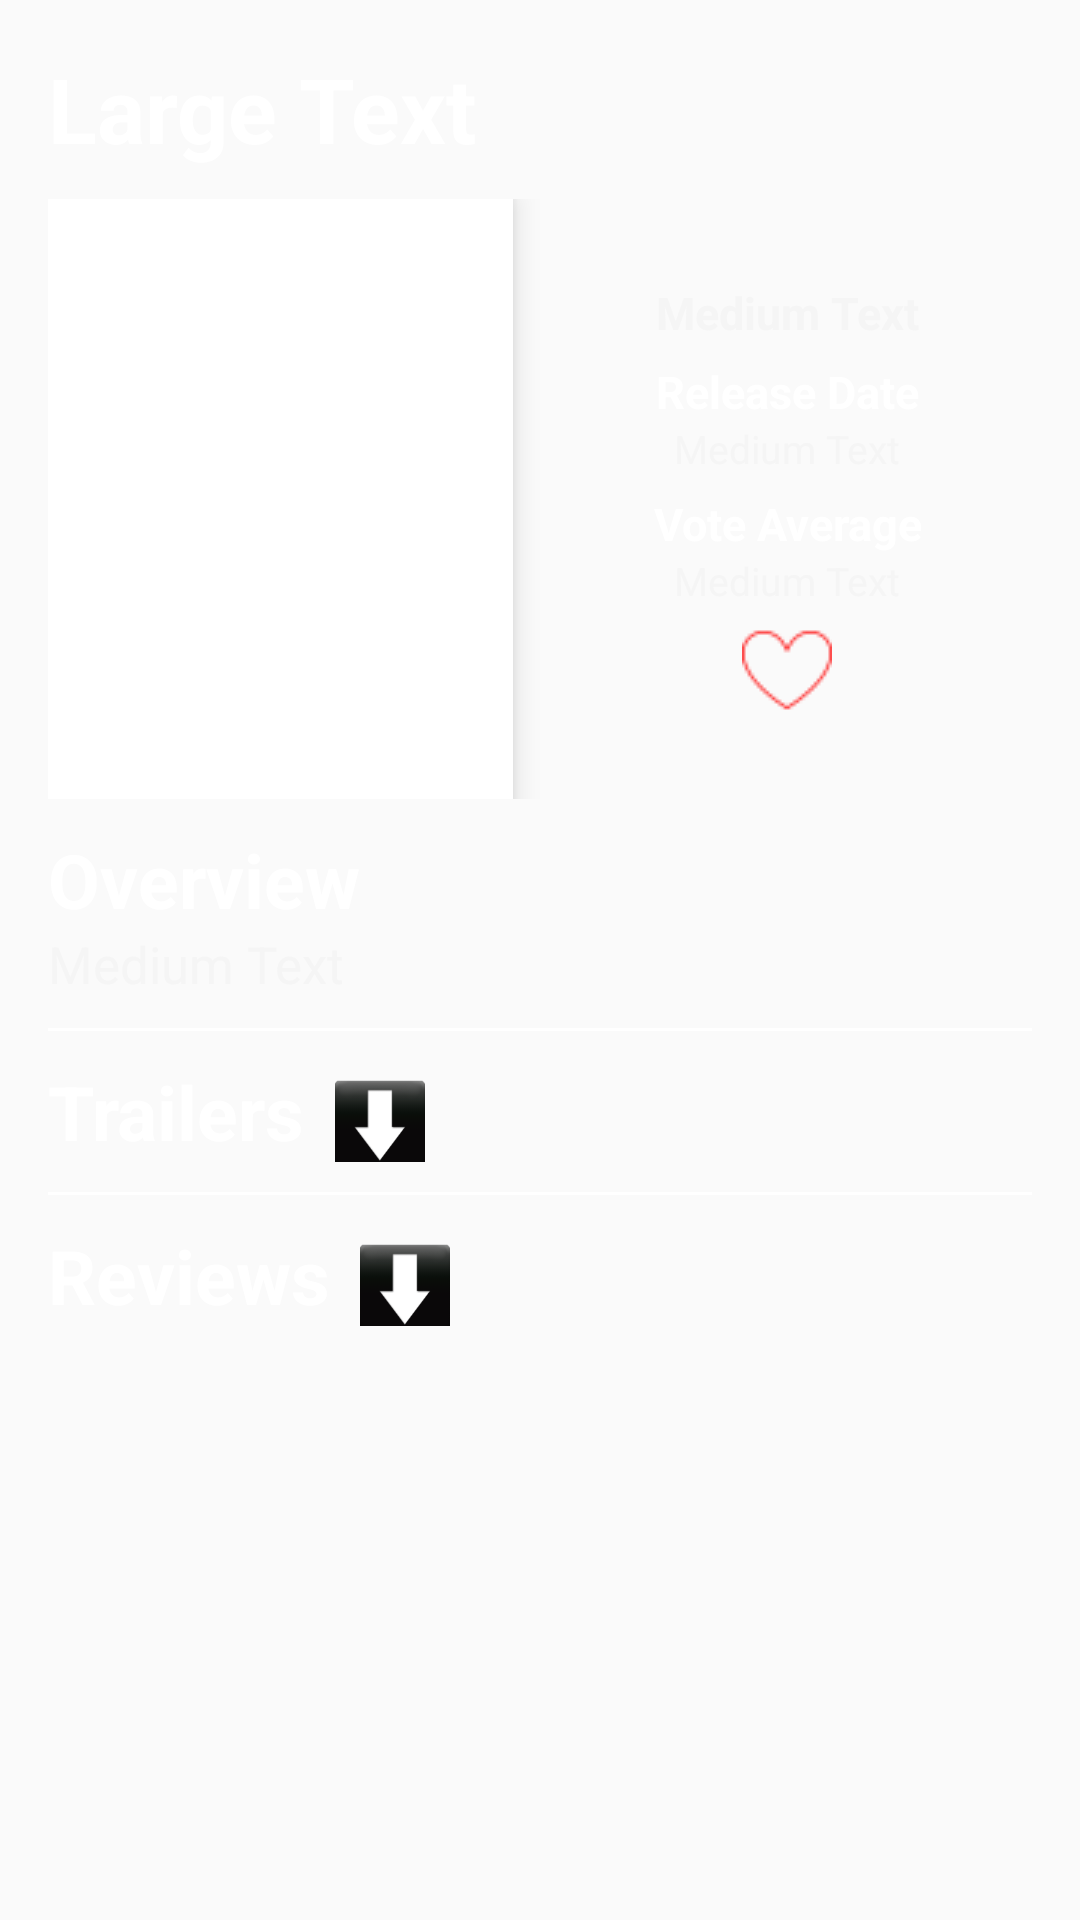

Icon bounding boxes for this 1080w x 1920h phone screenshot, format (x1, y1, x2, y2):
btnshow: (335, 1080, 425, 1162), (360, 1244, 450, 1326)
favoritecheck: (742, 630, 832, 710)
